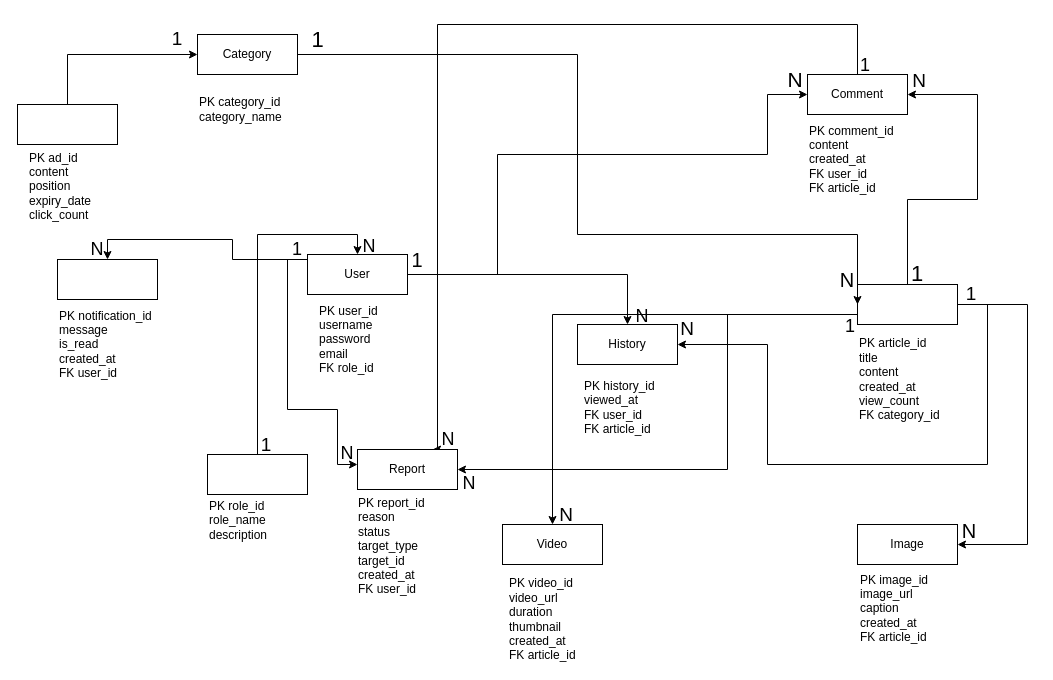
The diagram is 1053 pixels wide and 680 high, and some of its shapes have lost their labels. Each missing label, with the box of its shape:
Advertisement: (16, 104, 118, 144)
Article: (856, 284, 958, 324)
Notifications: (56, 258, 158, 300)
Role: (206, 454, 308, 494)
